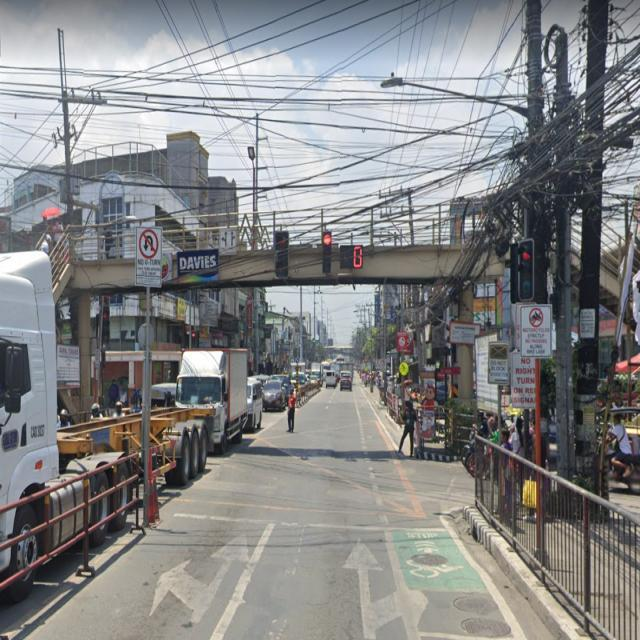no u turn: (137, 226, 161, 287)
